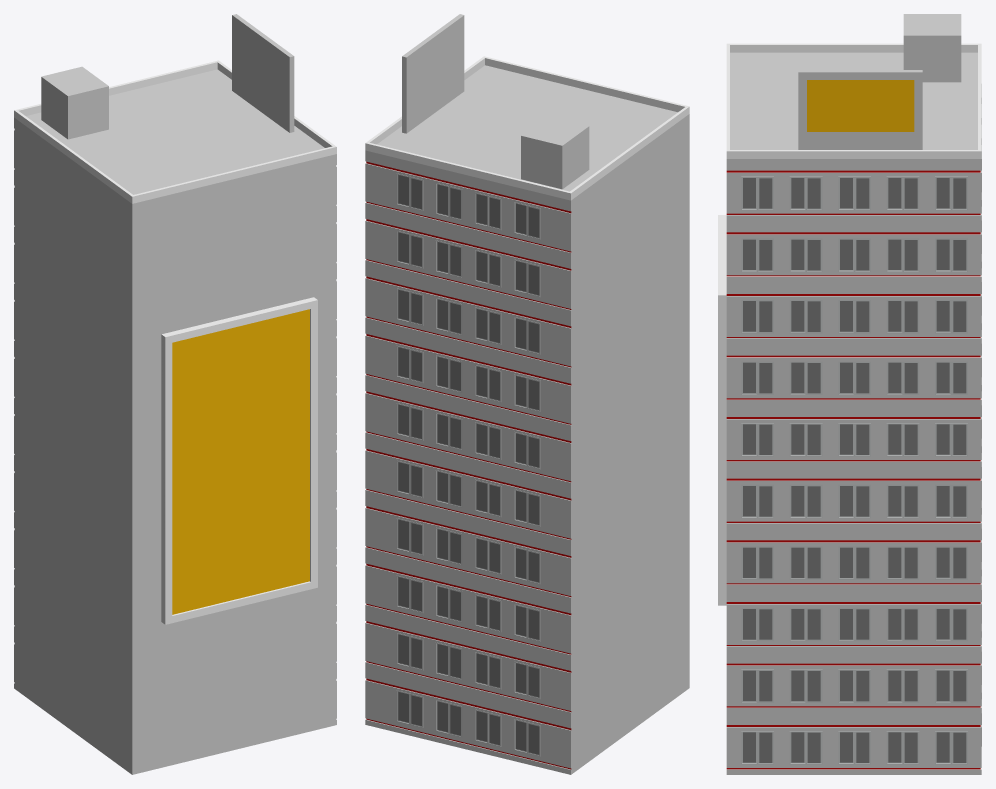
File: Punk2last.fbx
3 views of the same model, side by side, from view 1: azimuth 30°, elevation 25°; view 2: azimuth 150°, elevation 25°; view 3: azimuth 270°, elevation 25° (orthographic). The views are drawn at different scales.
Visible parts, largest first — view 1: Group3, Group8, Group9, Group2, Group6, Group7, Group5, Group4; view 2: Group8, Group9, Group2, Group5, Group7, Group6, Group4; view 3: Group8, Group9, Group2, Group6, Group7, Group5, Group4, Group3.
Part boxes in pixels (x1=…): Group3: x1=161, y1=297, x2=317, y2=624; Group8: x1=14, y1=346, x2=336, y2=660; Group9: x1=14, y1=574, x2=336, y2=774; Group2: x1=14, y1=14, x2=336, y2=203; Group6: x1=14, y1=175, x2=336, y2=317; Group7: x1=14, y1=117, x2=336, y2=260; Group5: x1=14, y1=232, x2=336, y2=375; Group4: x1=14, y1=289, x2=336, y2=432; Group8: x1=365, y1=344, x2=689, y2=659; Group9: x1=365, y1=573, x2=689, y2=774; Group2: x1=365, y1=14, x2=689, y2=200; Group5: x1=365, y1=229, x2=689, y2=372; Group7: x1=365, y1=114, x2=689, y2=257; Group6: x1=365, y1=171, x2=689, y2=315; Group4: x1=365, y1=286, x2=689, y2=430; Group8: x1=726, y1=377, x2=981, y2=651; Group9: x1=726, y1=624, x2=981, y2=774; Group2: x1=726, y1=14, x2=981, y2=158; Group6: x1=726, y1=192, x2=981, y2=282; Group7: x1=726, y1=84, x2=981, y2=220; Group5: x1=726, y1=254, x2=981, y2=343; Group4: x1=726, y1=316, x2=981, y2=405; Group3: x1=718, y1=215, x2=726, y2=605.
Size of the model in its own units: 1502 by 4531 by 1552.
